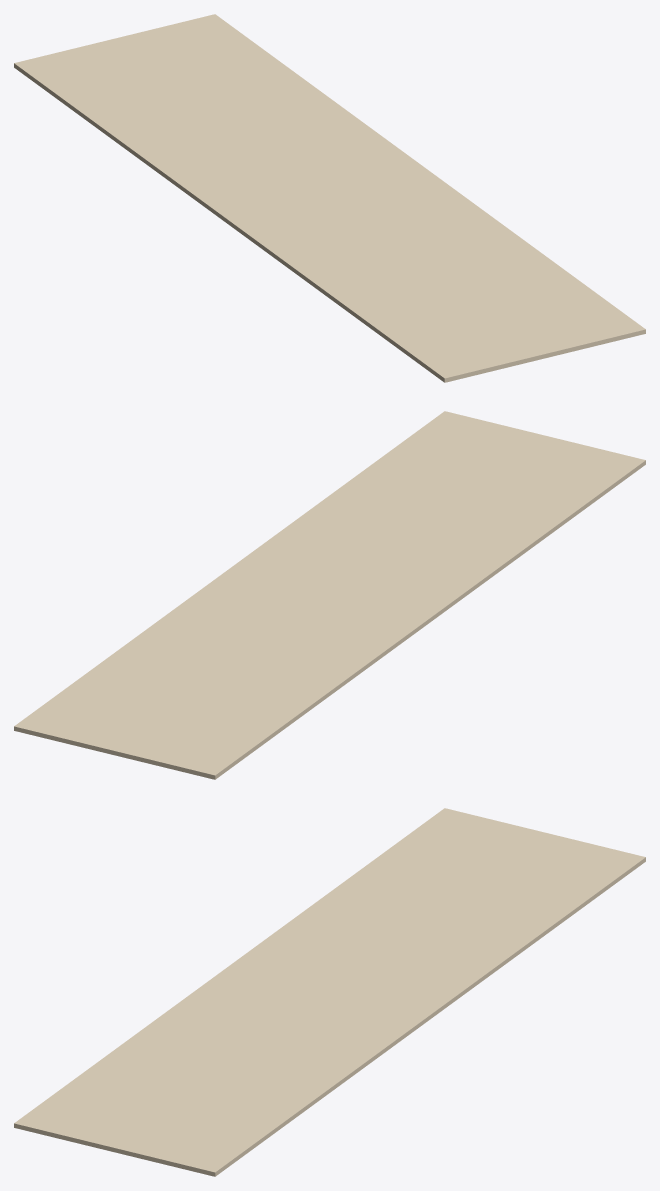
Rendered from OUTFITTING_INTERIOR__BATTERY CMPT__8667K18_Flame-Retardant Garolite G-10-FR4 Sheet.glb.
3 renders of one model, top to bottom at view 1: azimuth 30°, elevation 25°; view 2: azimuth 150°, elevation 25°; view 3: azimuth 330°, elevation 25°, orthographic.
Parts seen in each view (by area): view 1: Boss-Extrude1 (×2); view 2: Boss-Extrude1 (×2); view 3: Boss-Extrude1 (×2).
Part boxes in pixels (x1,y1,x2,y2): Boss-Extrude1 (×2): [14, 14, 645, 382]; Boss-Extrude1 (×2): [14, 411, 645, 779]; Boss-Extrude1 (×2): [14, 808, 645, 1176].
Size of the model in its own units: 0.6096 by 0.0127 by 2.26.
